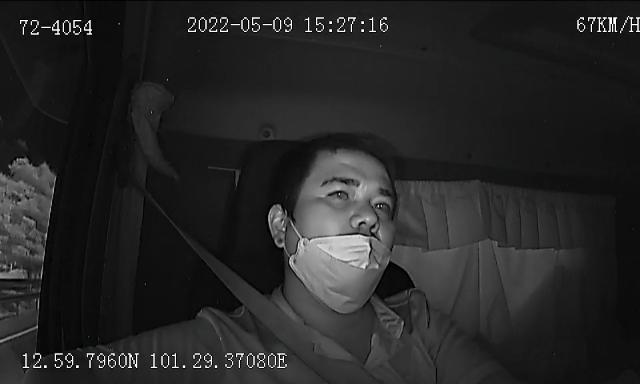SafeDriving: (322, 180, 357, 206), (368, 192, 396, 216)
Seatbelt: (136, 188, 380, 384)
